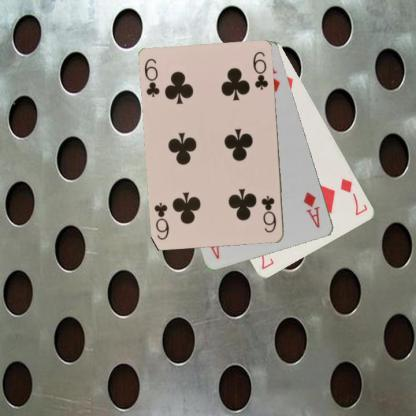6c: (259, 193, 278, 234), (142, 57, 161, 98)
7d: (338, 176, 369, 216)
Ad: (301, 189, 322, 229)
